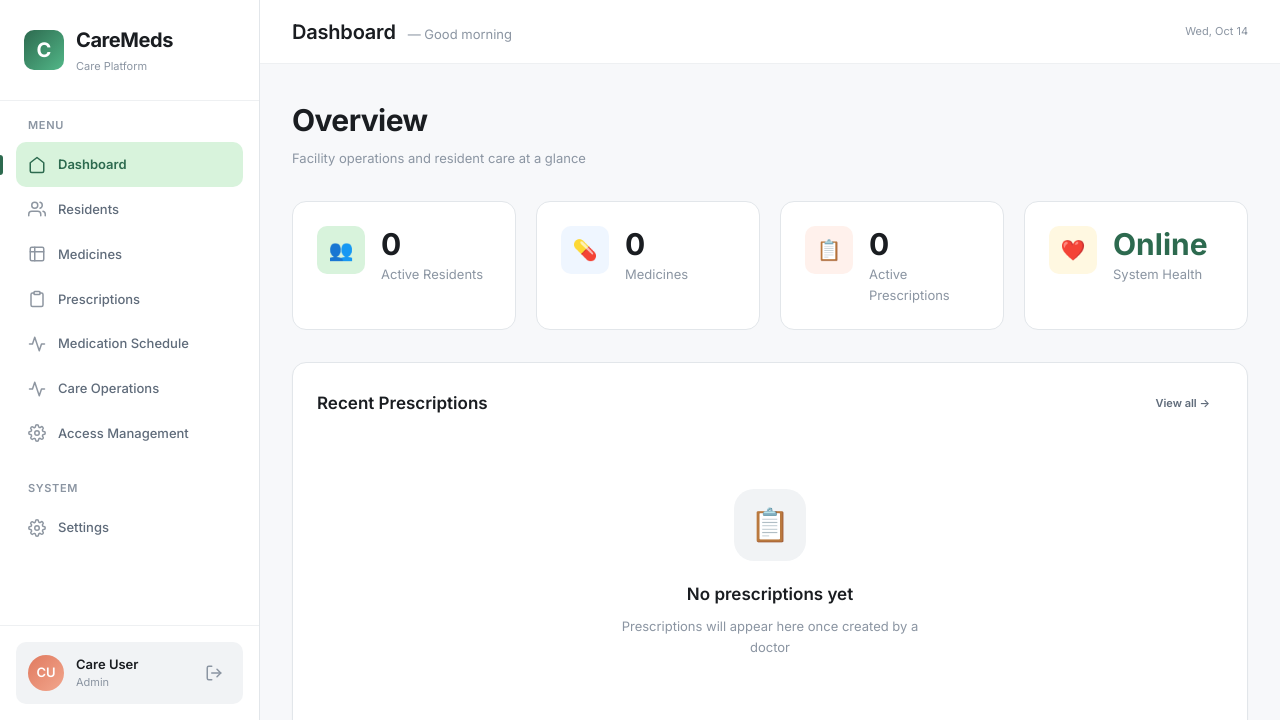
Scenario: CareMeds role-based application surfaces › shows an explicit session-revocation failure after local sign-out
Expected: the heading "Overview" is shown, [292, 102, 427, 138]
Click the button named "Sign out": [214, 673] box [197, 656, 231, 690]
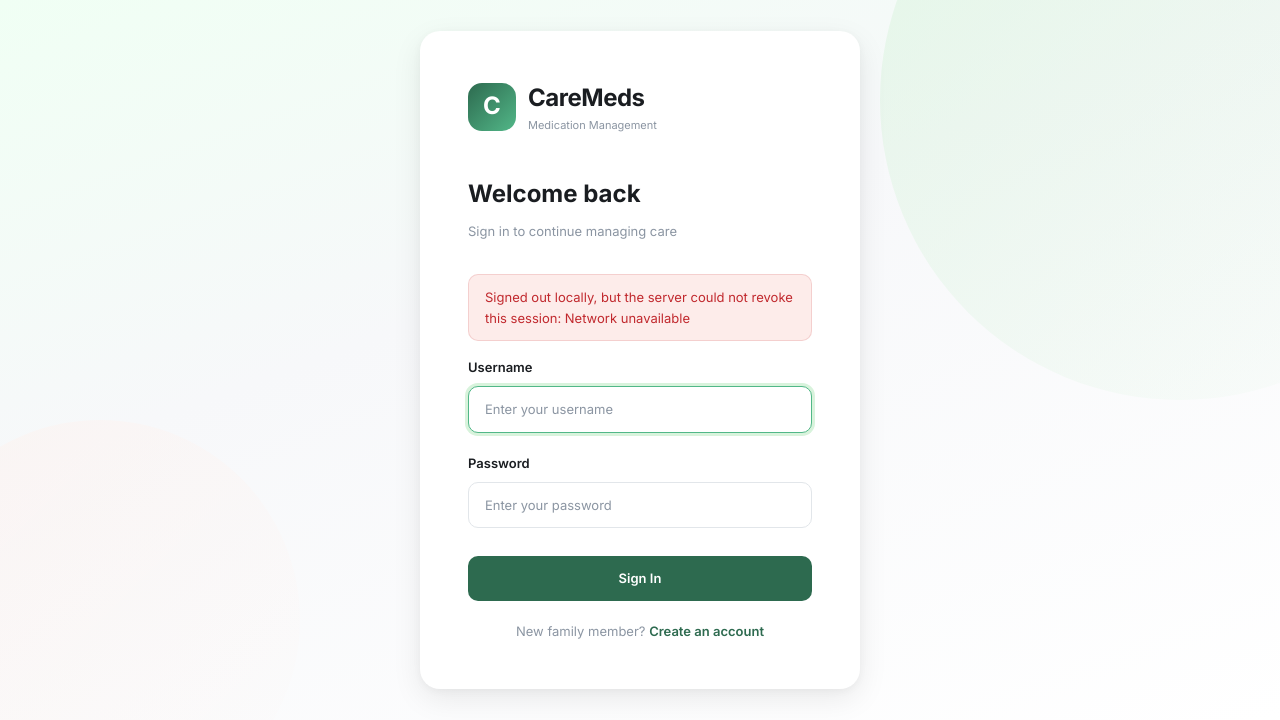
Expected: the text "server could not revoke this session" is shown, [485, 289, 793, 326]
